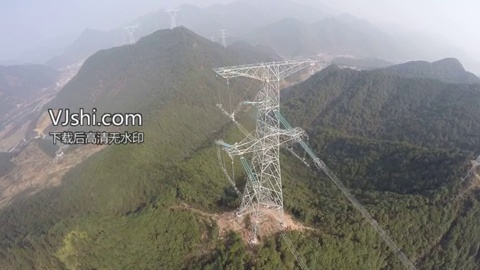tower_body: (202, 49, 323, 241)
tower_foot: (234, 190, 291, 237)
tower_head: (205, 53, 318, 82)
